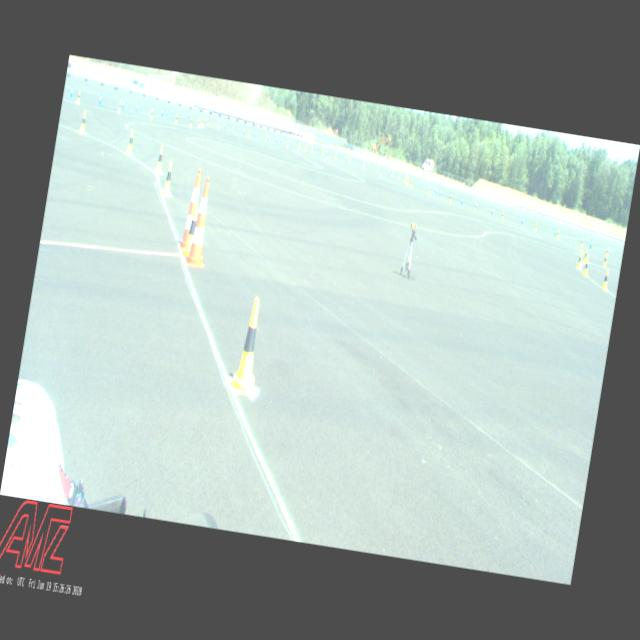blue_cone: (68, 86, 74, 98), (98, 93, 104, 104), (122, 98, 126, 110), (135, 102, 139, 112), (152, 106, 156, 116), (160, 107, 164, 117), (589, 240, 593, 248), (166, 108, 169, 117), (491, 206, 494, 215), (449, 192, 452, 201), (243, 127, 246, 135), (275, 136, 278, 144), (430, 184, 433, 192), (461, 196, 464, 204), (554, 228, 557, 236), (170, 108, 173, 116), (266, 134, 270, 140), (280, 136, 283, 144), (521, 217, 524, 224), (187, 112, 190, 119), (255, 130, 258, 137), (434, 186, 437, 193), (476, 201, 478, 210), (224, 122, 226, 130), (206, 116, 208, 124), (440, 188, 442, 196), (436, 187, 438, 195), (420, 179, 422, 186), (406, 175, 408, 182), (290, 140, 292, 146), (388, 169, 390, 175), (346, 156, 348, 162), (326, 149, 328, 155), (308, 144, 310, 150), (368, 162, 370, 167)
large_orange_cone: (184, 175, 218, 268), (179, 168, 204, 250)
yellow_cone: (228, 295, 270, 396), (182, 203, 199, 257), (162, 160, 176, 196), (155, 146, 166, 174), (126, 129, 136, 155), (78, 110, 88, 134), (602, 270, 610, 292), (582, 258, 590, 276), (576, 252, 584, 270), (76, 90, 82, 104), (117, 100, 123, 114), (583, 250, 588, 263), (604, 255, 608, 268), (580, 250, 584, 263), (150, 108, 154, 120), (174, 114, 178, 125), (190, 117, 194, 127), (473, 202, 477, 212), (580, 238, 584, 248), (606, 247, 610, 257), (198, 119, 202, 128), (202, 119, 206, 128), (448, 194, 452, 203), (534, 222, 538, 230), (556, 230, 560, 238), (200, 117, 203, 126), (218, 120, 221, 129), (248, 129, 251, 138), (265, 134, 268, 143), (286, 140, 289, 149), (501, 212, 504, 220), (207, 118, 210, 126), (428, 186, 431, 194), (298, 142, 301, 150), (322, 148, 325, 156), (349, 156, 352, 164), (398, 172, 401, 180), (376, 165, 379, 172), (391, 170, 394, 177), (411, 180, 414, 187), (363, 160, 365, 168), (335, 152, 337, 159), (404, 175, 406, 182), (406, 178, 408, 185), (406, 177, 408, 184), (306, 144, 308, 150), (311, 146, 313, 152)
